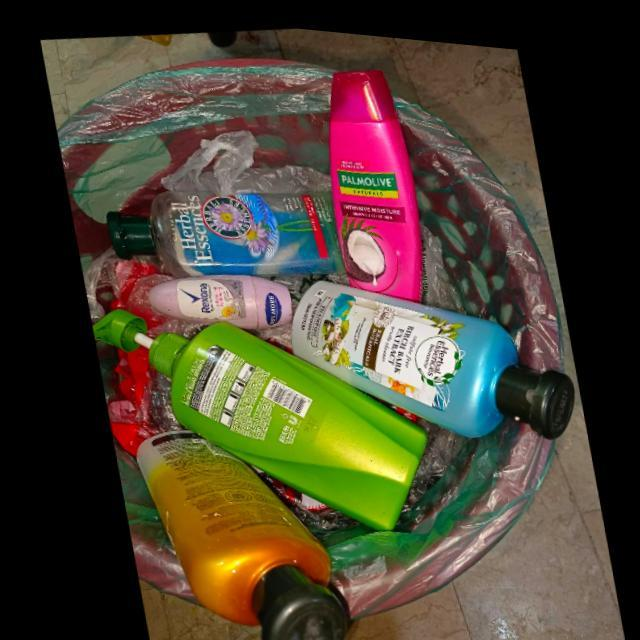plastic: (88, 307, 423, 525), (131, 427, 344, 640), (287, 275, 572, 430), (326, 63, 422, 300), (103, 184, 342, 274), (144, 271, 289, 326)
